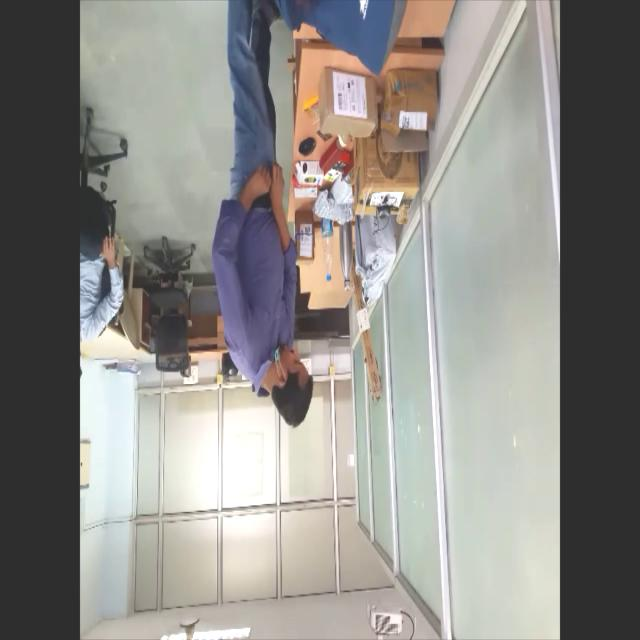shoplifting: (209, 0, 311, 443)
